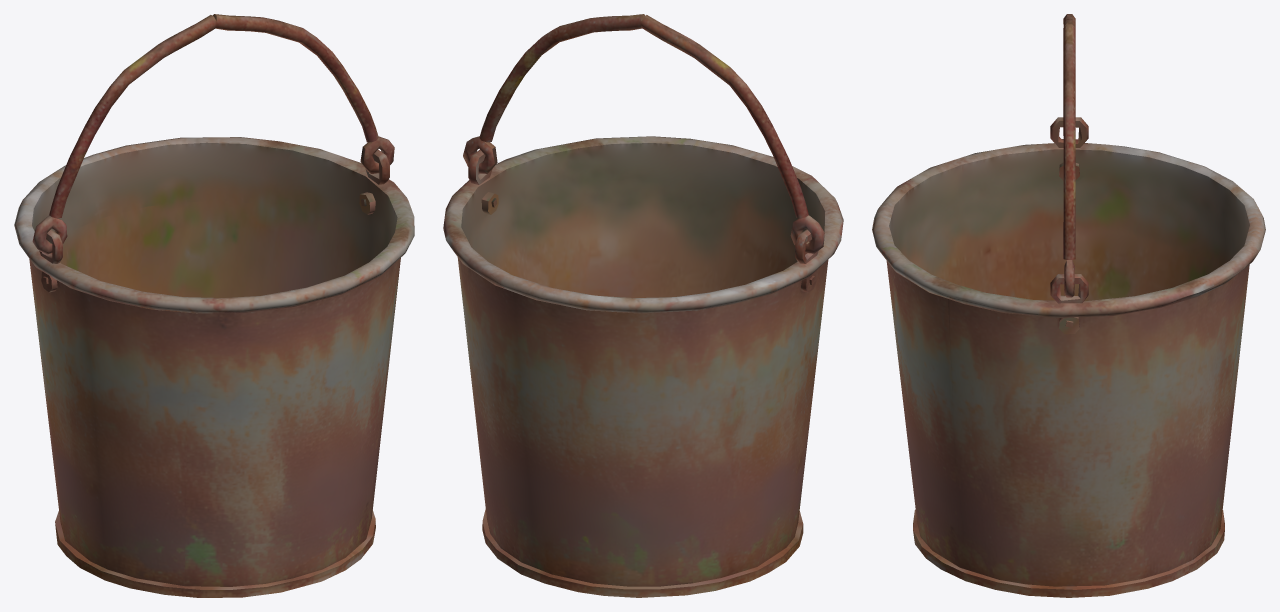
File: rusty_empty_bucket_lp2_textured.glb
The picture shows the model from 3 angles, left to right: view 1: azimuth 30°, elevation 25°; view 2: azimuth 150°, elevation 25°; view 3: azimuth 270°, elevation 25°; orthographic projection.
Visible parts, largest first — view 1: texture_pbr_v128; view 2: texture_pbr_v128; view 3: texture_pbr_v128.
Boxes of the visible parts, left/top/right/bottom form: texture_pbr_v128: left=14, top=14, right=414, bottom=597; texture_pbr_v128: left=443, top=14, right=843, bottom=597; texture_pbr_v128: left=872, top=14, right=1265, bottom=597.
Bounding box in the file's own units: 0.4366 × 0.6003 × 0.421.
1 material, 1 textured.
